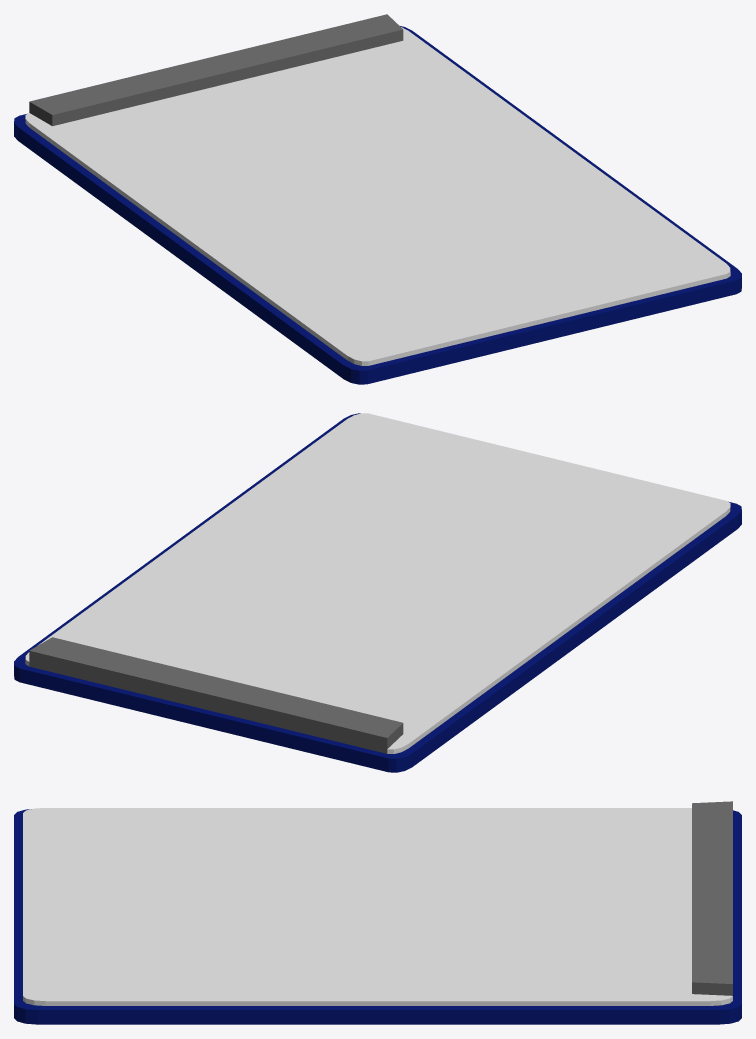
3 views of the same model, one above another, from view 1: azimuth 30°, elevation 25°; view 2: azimuth 150°, elevation 25°; view 3: azimuth 270°, elevation 25° (orthographic). The views are drawn at different scales.
Visible parts, largest first — view 1: Cube; view 2: Cube; view 3: Cube.
Part boxes in pixels (x1,y1,x2,y2): Cube: (14, 14, 741, 384); Cube: (14, 413, 741, 772); Cube: (14, 801, 741, 1024).
Bounding box in the file's own units: 131 × 9.45 × 200.
